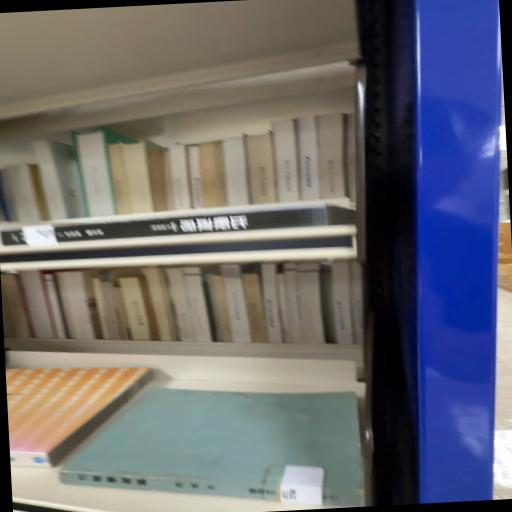flat: (61, 389, 365, 508), (1, 205, 356, 248)
